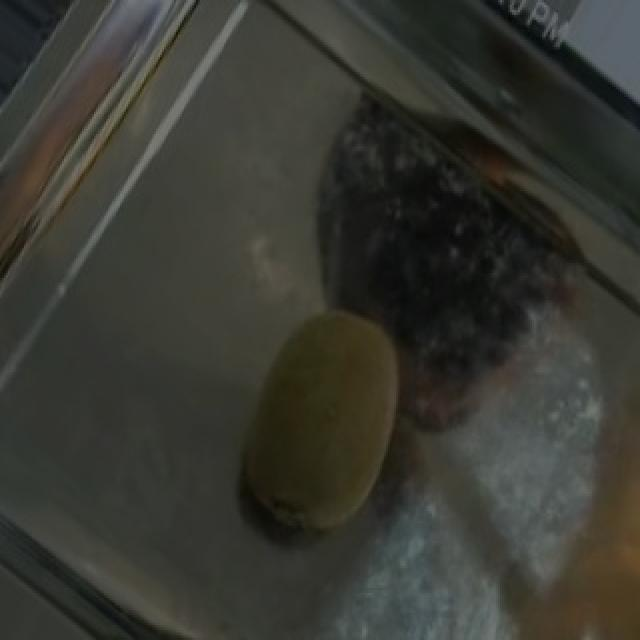Fruit: (202, 285, 432, 568), (468, 407, 640, 640)
